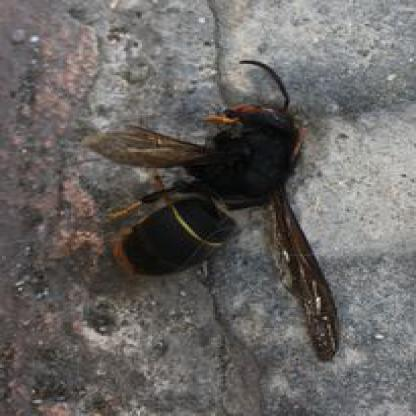Asian Hornet: (71, 64, 346, 370)
